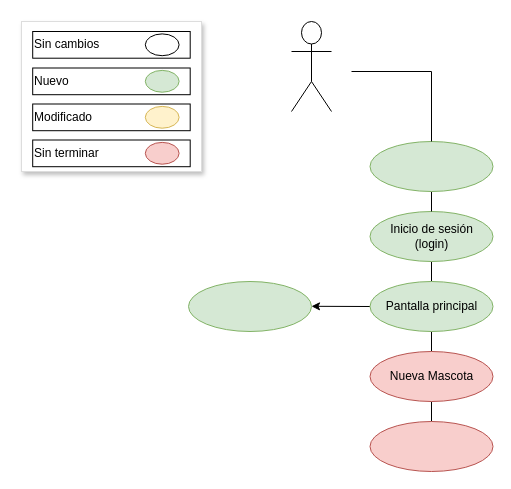
Some shapes in this 511 by 489 pixel diagram are drawn without their labels. Each missing label, with the centre of its shape:
"Administración" goes at point (431, 446).
"Publicación" goes at point (250, 306).
"Registro de usuario" goes at point (431, 166).
"Usuario" goes at point (311, 66).
